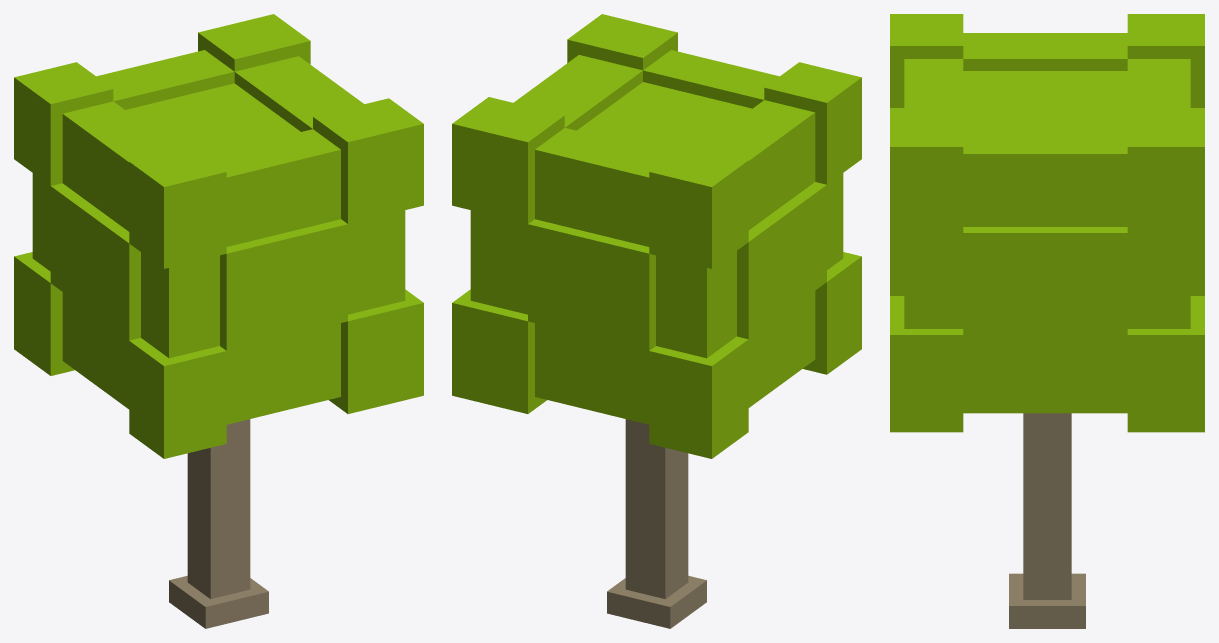
File: tree_boxy_6.fbx
3 renders of one model, left to right at view 1: azimuth 30°, elevation 25°; view 2: azimuth 150°, elevation 25°; view 3: azimuth 270°, elevation 25°, orthographic. The views are drawn at different scales.
Visible parts, largest first — view 1: tree_boxy_6; view 2: tree_boxy_6; view 3: tree_boxy_6.
Part boxes in pixels (x1,y1,x2,y2): tree_boxy_6: (14,14,423,628); tree_boxy_6: (452,14,861,628); tree_boxy_6: (890,14,1204,628).
Bounding box in the file's own units: 102 × 190 × 102.
